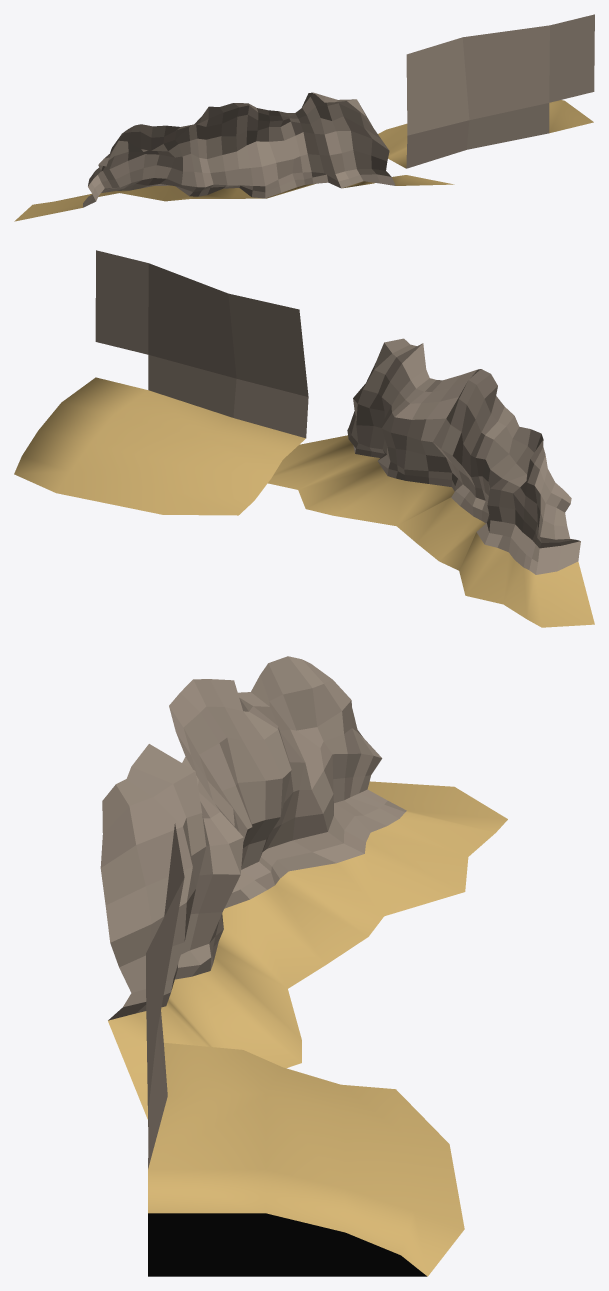
The model's file is RoomOutside.fbx.
The picture shows the model from 3 angles, top to bottom: view 1: azimuth 30°, elevation 25°; view 2: azimuth 150°, elevation 25°; view 3: azimuth 270°, elevation 25°; orthographic projection. The views are drawn at different scales.
Visible parts, largest first — view 1: RoomOutside; view 2: RoomOutside; view 3: RoomOutside.
Part boxes in pixels (x1=…): RoomOutside: x1=14, y1=14, x2=594, y2=221; RoomOutside: x1=14, y1=250, x2=594, y2=627; RoomOutside: x1=100, y1=656, x2=507, y2=1276.
Bounding box in the file's own units: 6853 × 1839 × 2401.
